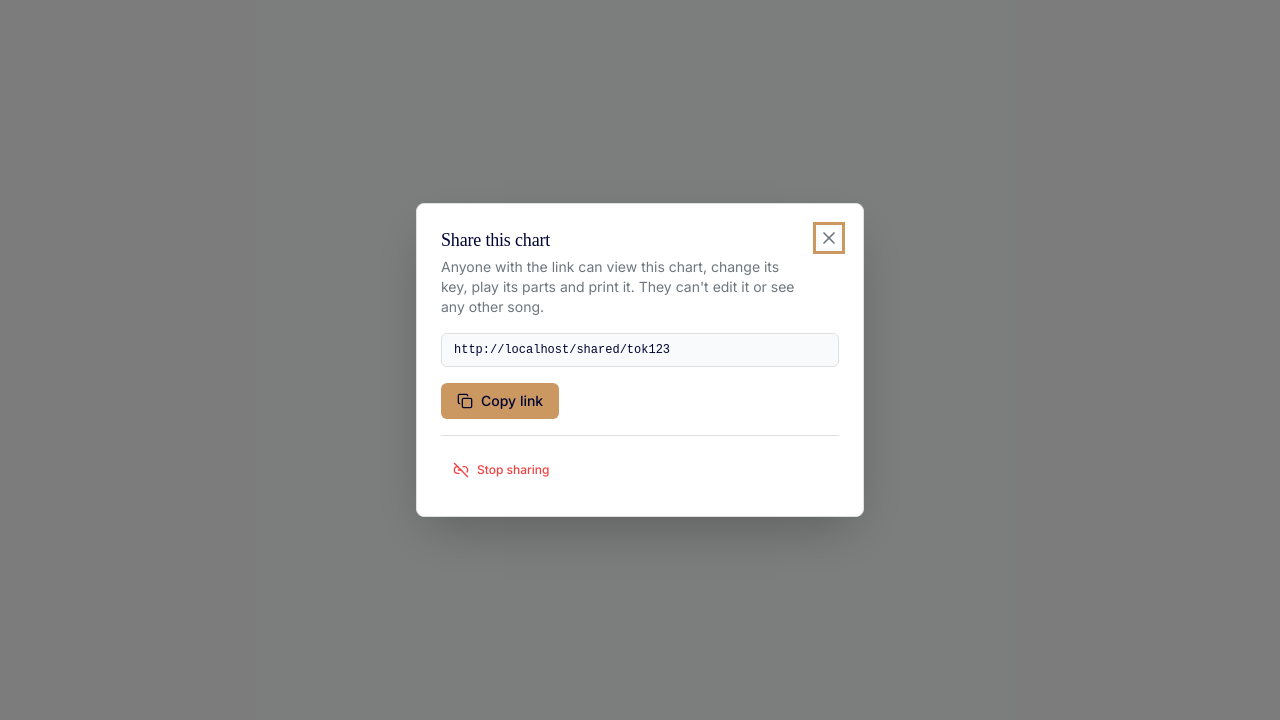
ShareSongDialog › asks before turning the link off, and lets you keep sharing
Click the button "Stop sharing": [501, 470] box [441,448,562,492]
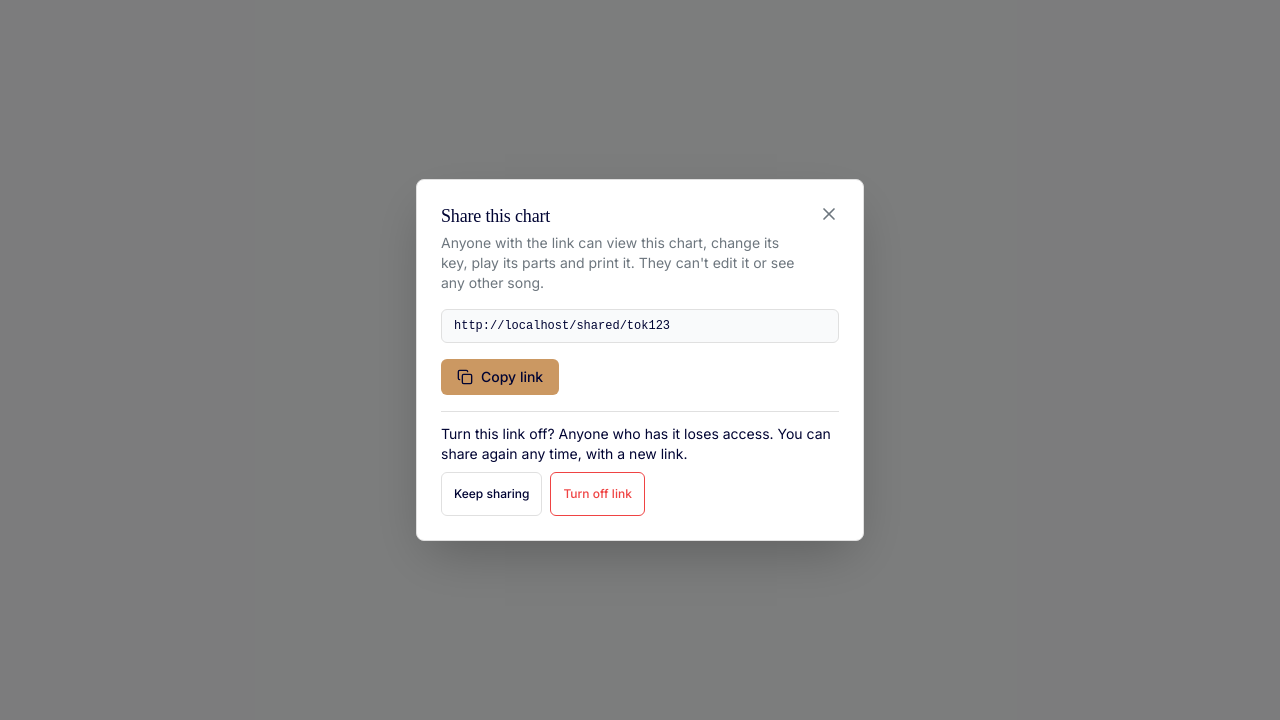
Result: the text "Anyone who has it loses access" is shown at [441,425,831,462]
Click the button "Keep sharing": [492, 494] box [441,472,542,516]
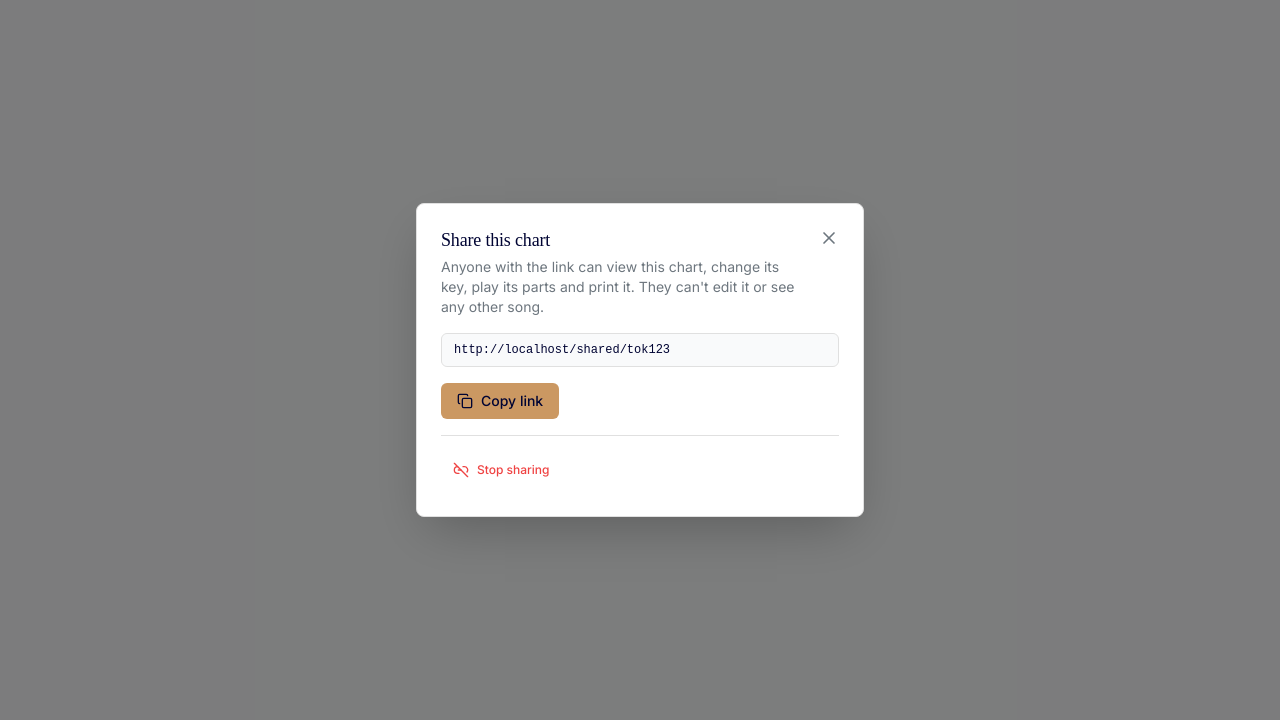
Result: the button "Stop sharing" is shown at [441,448,562,492]
